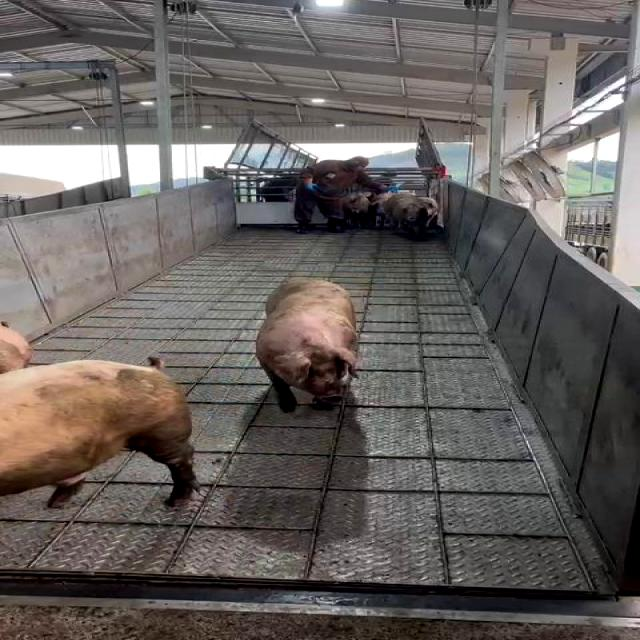pig: (0, 359, 199, 507), (257, 280, 358, 412)
